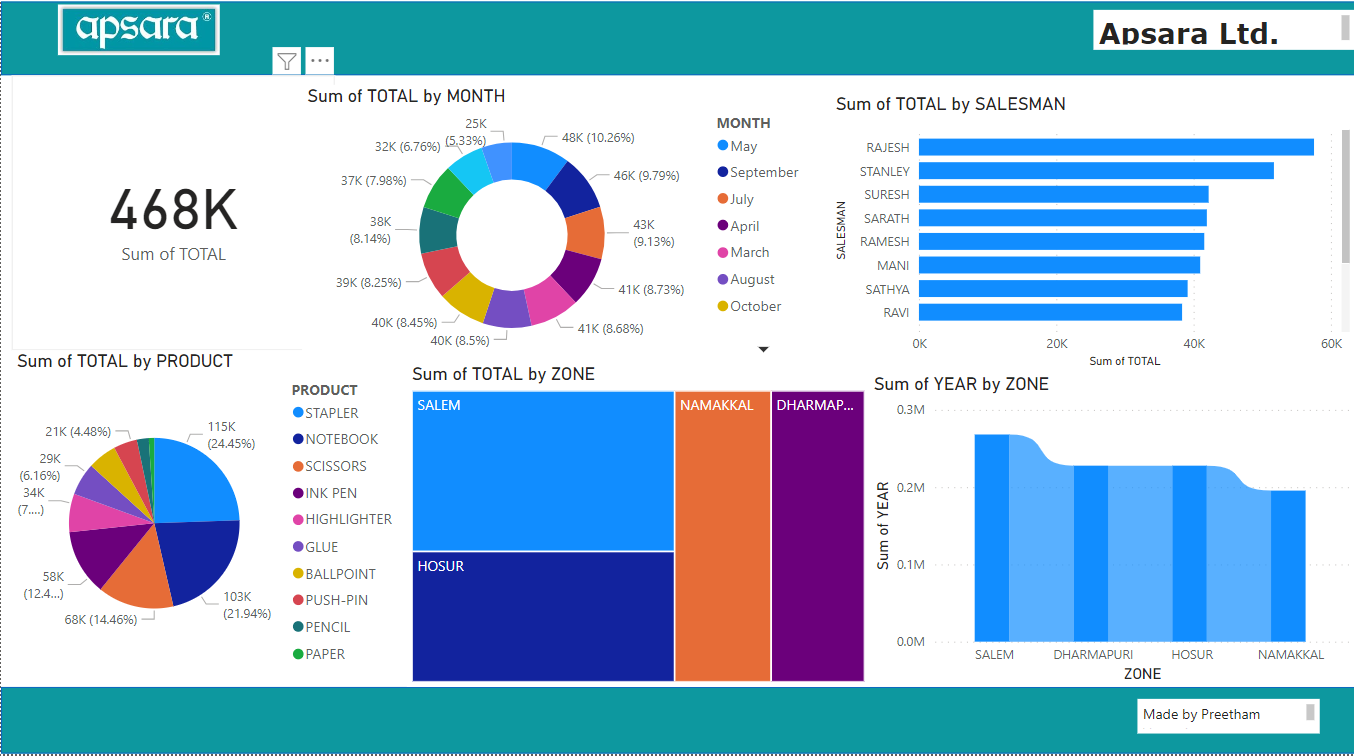

This screenshot's page, from the dashboard's own definition file:
{"tool":"powerbi","page":{"name":"Page 1","canvas":[1280,720],"ordinal":0},"visuals":[{"type":"shape","box":[0,8.9,1280.1,69.6],"z":0},{"type":"shape","box":[0,656.7,1279.7,63],"z":1000},{"type":"image","box":[0,6.3,260.8,58.2],"z":2000},{"type":"textbox","box":[1031.9,16.5,246.9,38],"z":3000},{"type":"card","fields":{"Values":["Table1.TOTAL"]},"box":[10.1,78.7,305.9,259.8],"z":4000},{"type":"pieChart","fields":{"Category":["Table1.PRODUCT"],"Y":["Table1.TOTAL"]},"box":[10.1,338.5,373.3,305.9],"z":5000},{"type":"barChart","fields":{"Category":["Table1.SALESMAN"],"Y":["Table1.TOTAL"]},"box":[783.8,95.6,495.9,264.3],"z":6000},{"type":"donutChart","fields":{"Y":["Table1.TOTAL"],"Category":["Table1.MONTH"]},"box":[284.5,87.7,483.5,263.1],"z":7000},{"type":"treemap","fields":{"Values":["Table1.TOTAL"],"Group":["Table1.ZONE"]},"box":[383.5,350.9,437.4,305.9],"z":8000},{"type":"ribbonChart","fields":{"Y":["Table1.YEAR"],"Category":["Table1.ZONE"]},"box":[820,360,460,297],"z":9000},{"type":"textbox","box":[1073.9,668,172.1,32.6],"z":10000}]}

Visuals, with their boxes in screenshot pixels (x1, y1, x2, y2), scaled from the page's 1280x720 canvas onto the 1354x756 screenshot:
shape: left=0, top=9, right=1353, bottom=82
shape: left=0, top=690, right=1353, bottom=755
image: left=0, top=7, right=276, bottom=68
textbox: left=1092, top=17, right=1353, bottom=57
card - Table1.TOTAL: left=11, top=83, right=334, bottom=355
pieChart - Table1.PRODUCT x Table1.TOTAL: left=11, top=355, right=406, bottom=677
barChart - Table1.SALESMAN x Table1.TOTAL: left=829, top=100, right=1353, bottom=378
donutChart - Table1.TOTAL x Table1.MONTH: left=301, top=92, right=812, bottom=368
treemap - Table1.TOTAL x Table1.ZONE: left=406, top=368, right=868, bottom=690
ribbonChart - Table1.YEAR x Table1.ZONE: left=867, top=378, right=1353, bottom=690
textbox: left=1136, top=701, right=1318, bottom=736
